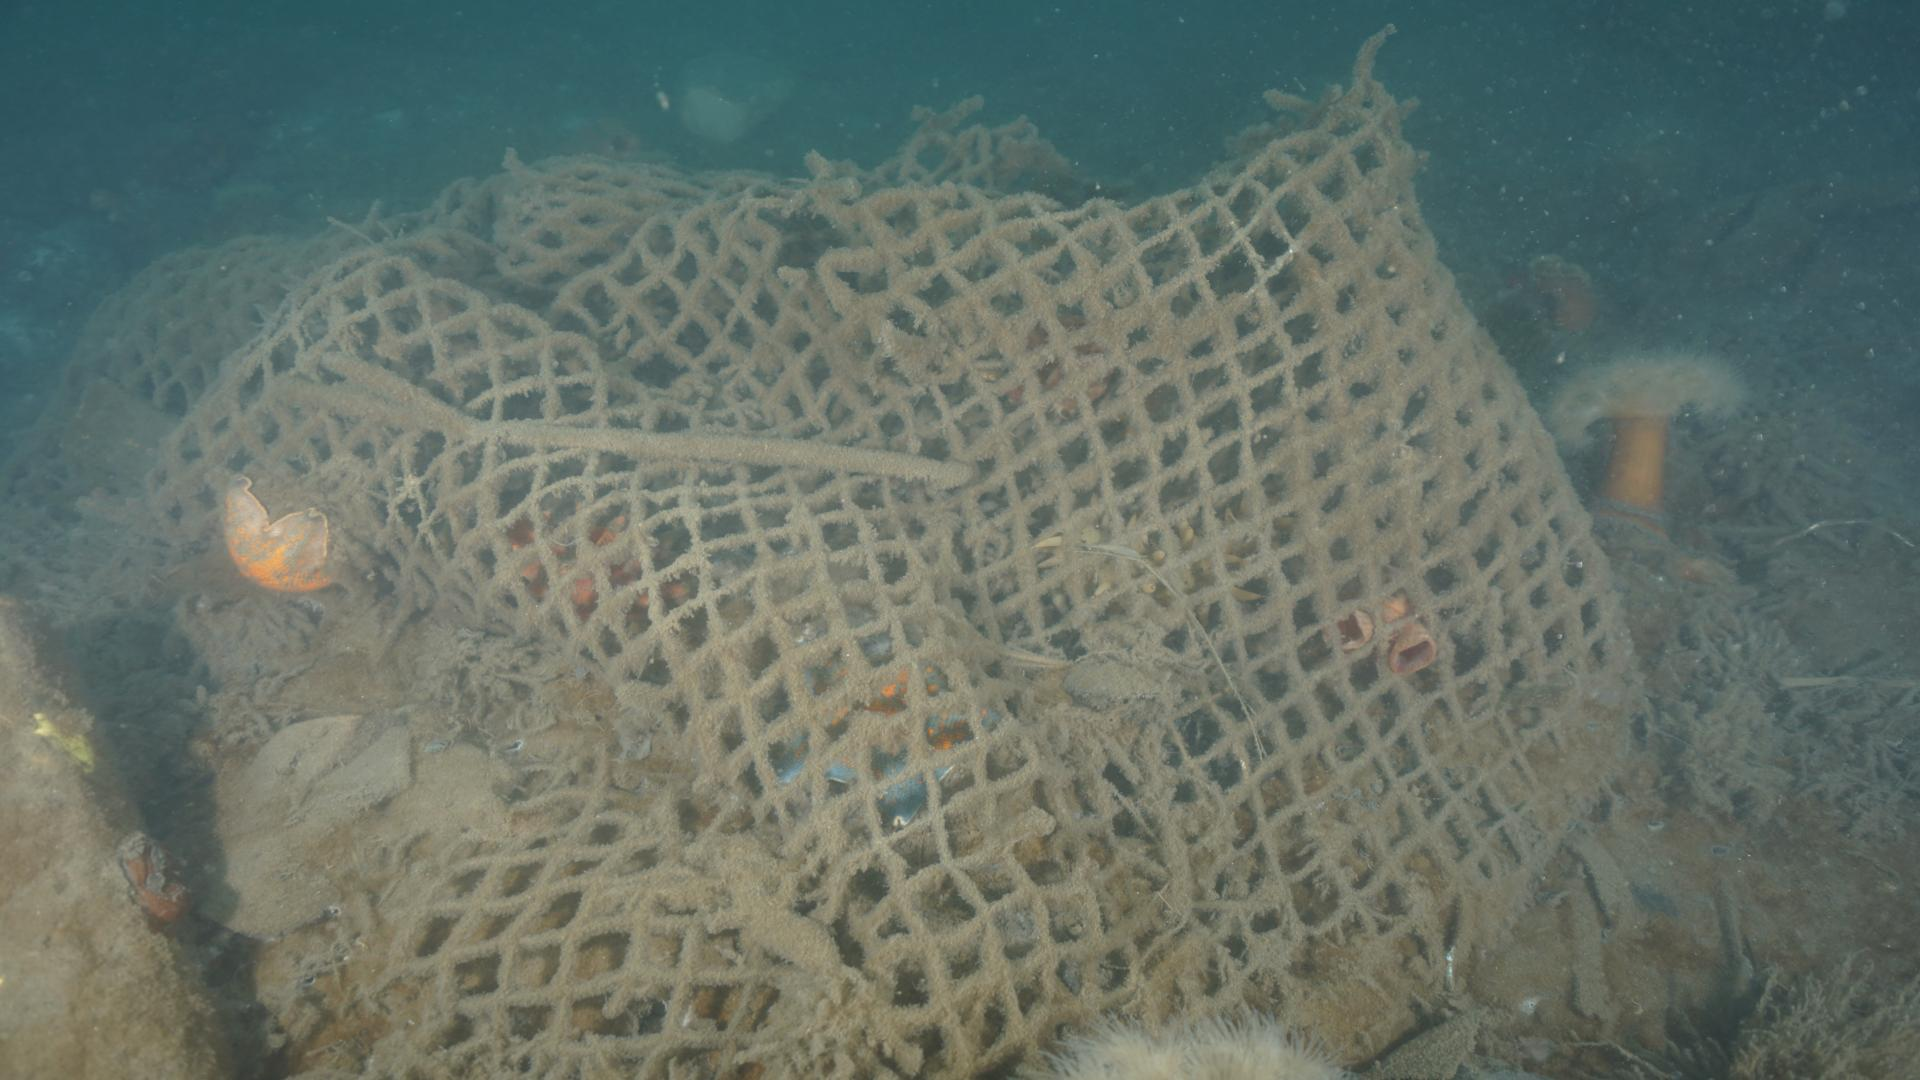fish net: (34, 84, 1663, 1080)
